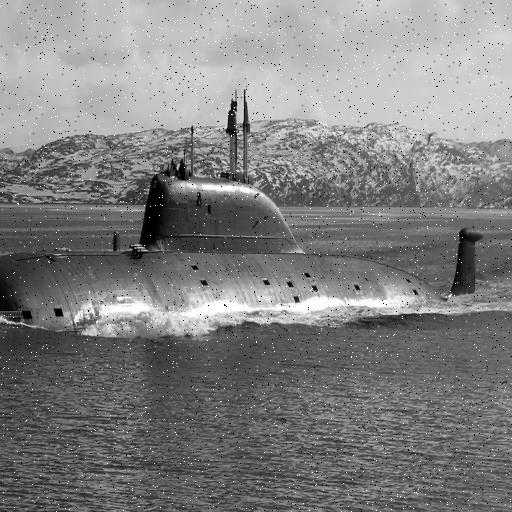submarine: (1, 83, 485, 345)
